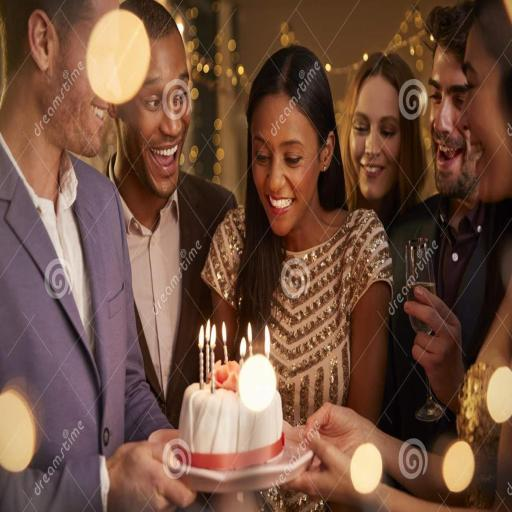person: (0, 0, 194, 511), (203, 46, 392, 425), (106, 0, 236, 426), (381, 2, 502, 450), (291, 267, 511, 511), (342, 53, 426, 231)
